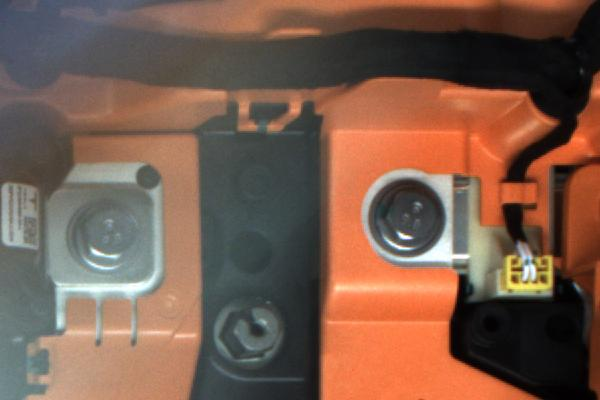nut_b: (360, 166, 457, 262)
